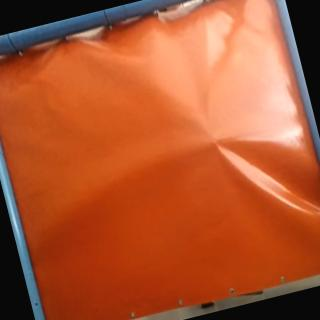Hit-hRxx: (206, 132, 228, 152)
